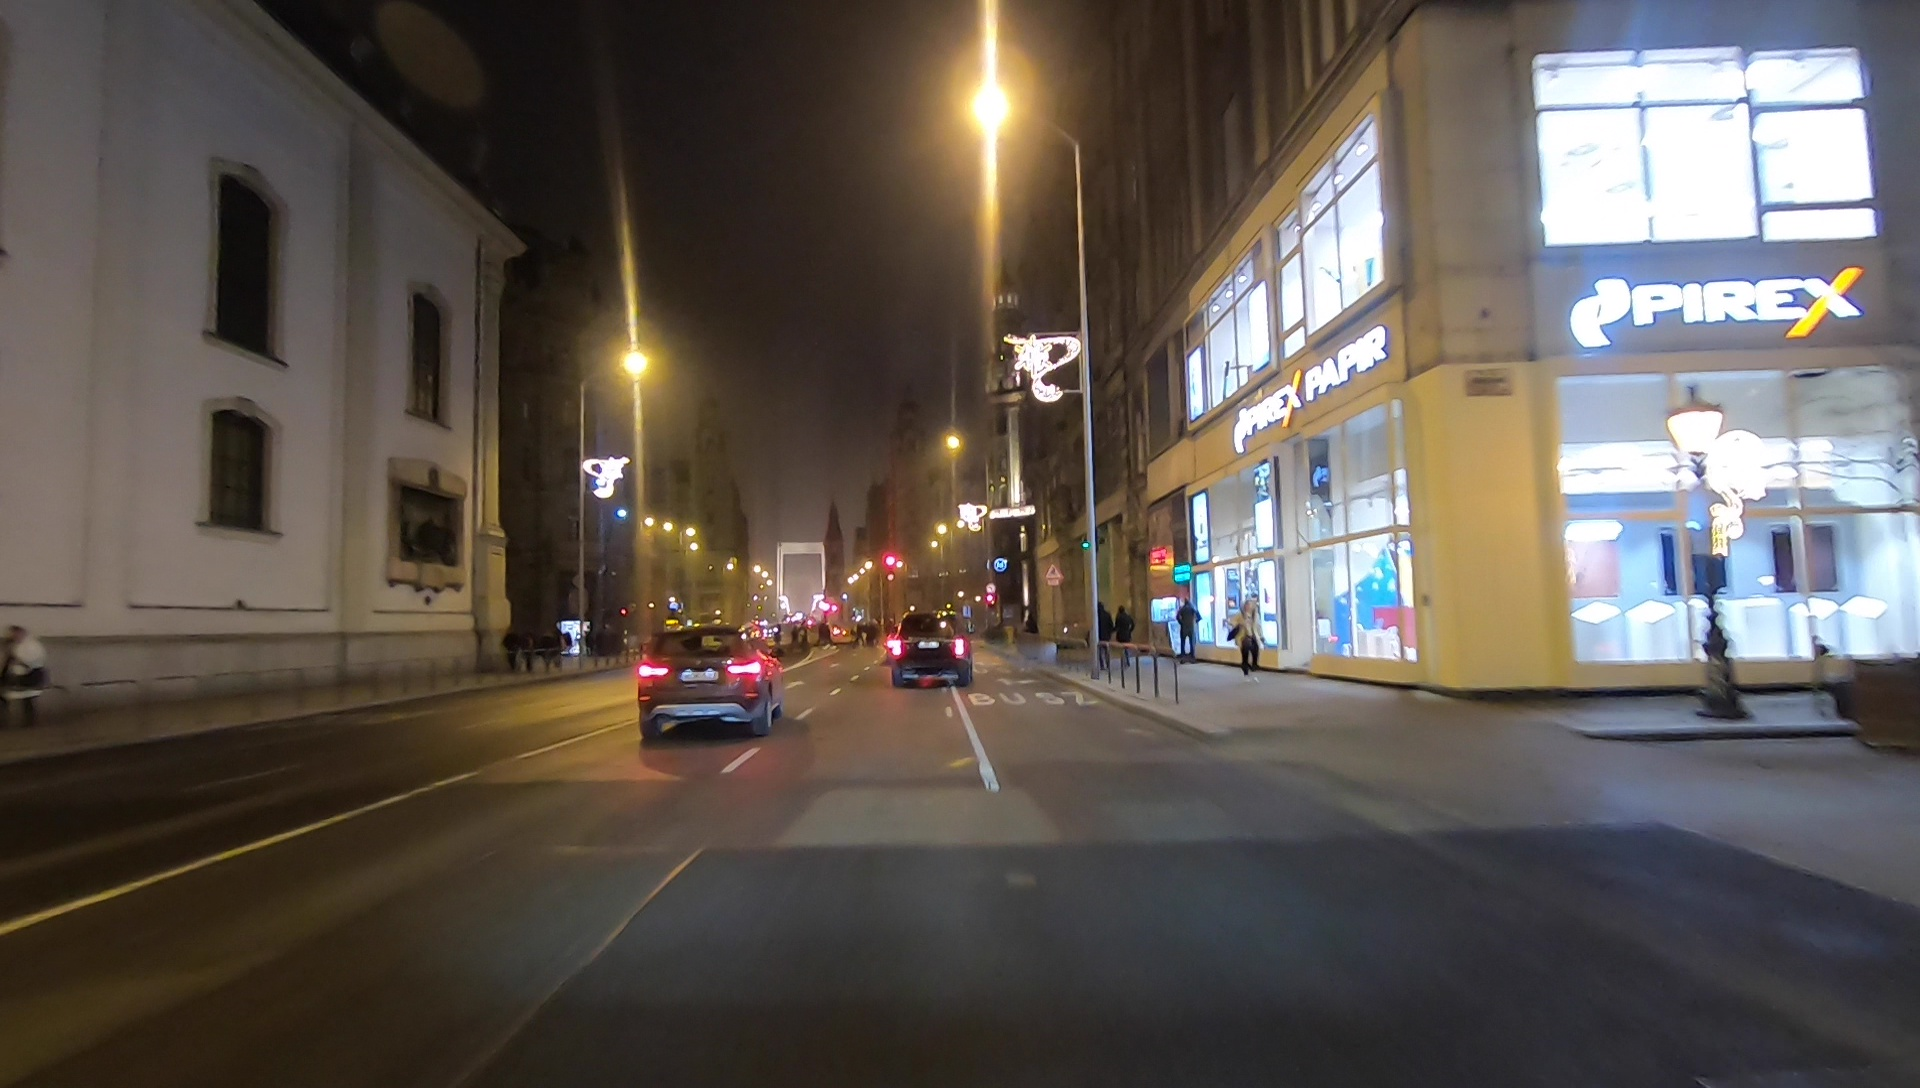person: (1, 619, 47, 736), (1234, 600, 1265, 674), (1176, 599, 1203, 662), (1095, 600, 1116, 672), (1114, 606, 1134, 663)
